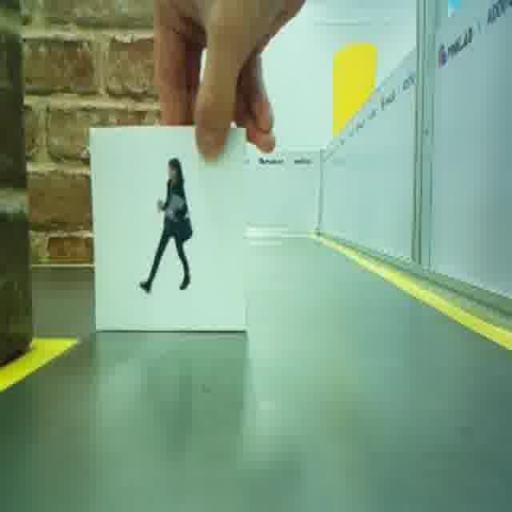human: (139, 158, 192, 292)
